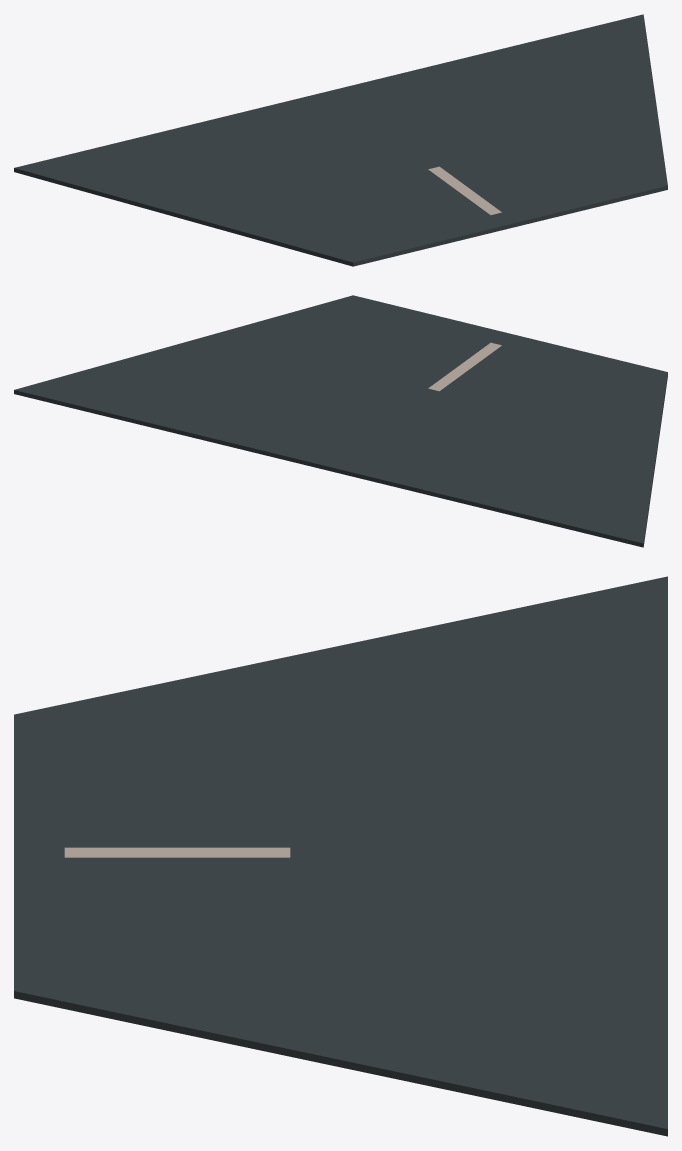
The model's file is SM_road_17.glb.
The picture shows the model from 3 angles, top to bottom: view 1: azimuth 30°, elevation 25°; view 2: azimuth 150°, elevation 25°; view 3: azimuth 270°, elevation 25°; orthographic projection. The views are drawn at different scales.
Parts seen in each view (by area): view 1: SM_road_17; view 2: SM_road_17; view 3: SM_road_17.
Boxes of the visible parts, x1,y1,x2,y2 form: SM_road_17: (14,14,667,266); SM_road_17: (14,295,667,547); SM_road_17: (14,576,667,1136).
Bounding box in the file's own units: 8 × 0.05 × 4.
Materials: 1 (1 with a texture image).
